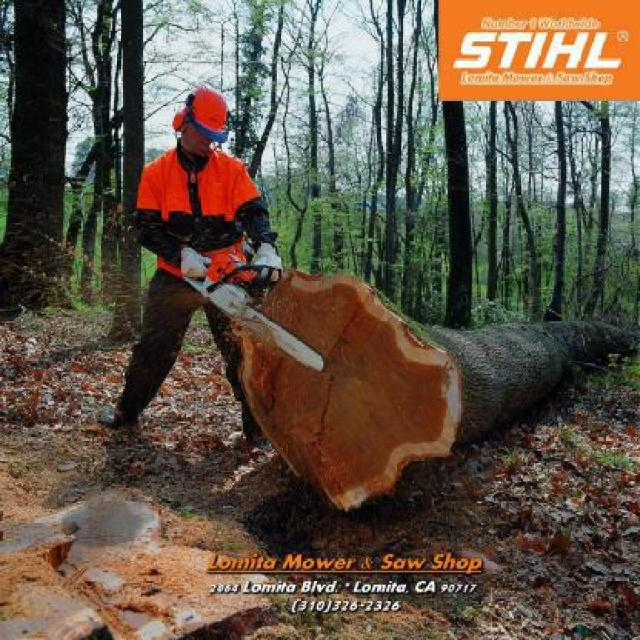Chainsaw: (199, 242, 326, 372)
